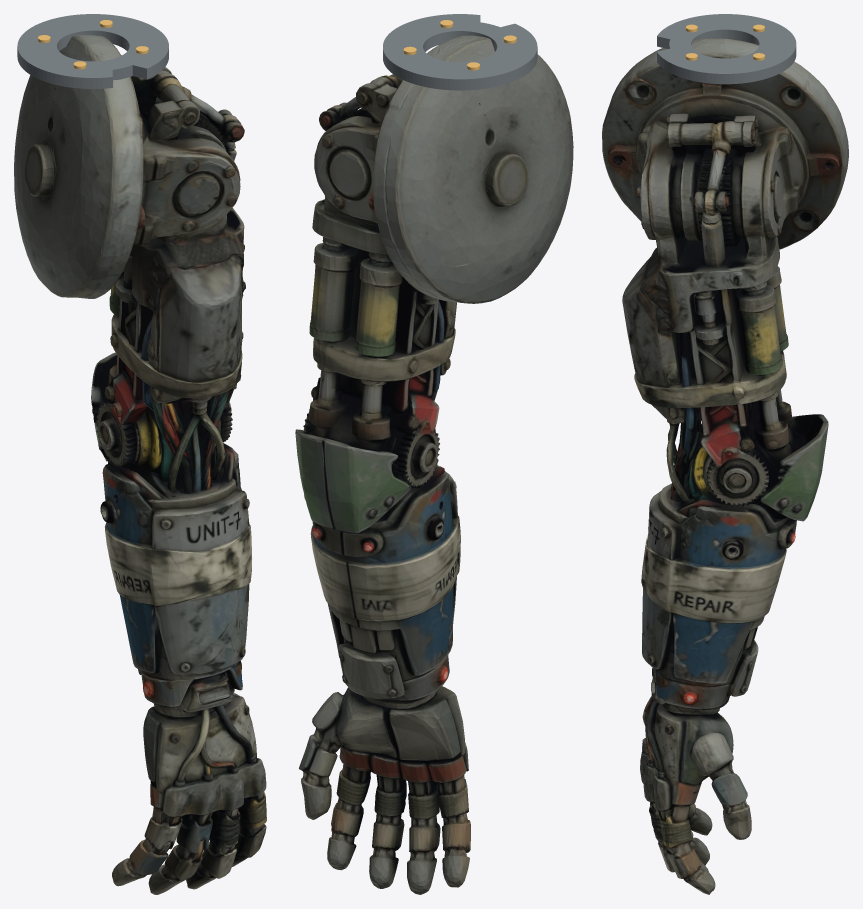
File: implant_refurb_arm.glb
3 views of the same model, side by side, from view 1: azimuth 30°, elevation 25°; view 2: azimuth 150°, elevation 25°; view 3: azimuth 270°, elevation 25° (orthographic). The views are drawn at different scales.
Parts seen in each view (by area): view 1: world, keyed_flange; view 2: world, keyed_flange; view 3: world, keyed_flange.
Part boxes in pixels (bbox=[...]): world: bbox=[14, 35, 266, 894]; keyed_flange: bbox=[17, 14, 168, 88]; world: bbox=[295, 35, 573, 894]; keyed_flange: bbox=[383, 14, 537, 90]; world: bbox=[602, 38, 848, 894]; keyed_flange: bbox=[657, 14, 796, 84].
Bounding box in the file's own units: 0.1994 × 0.7499 × 0.2087.
Materials: 3 (1 with a texture image).
